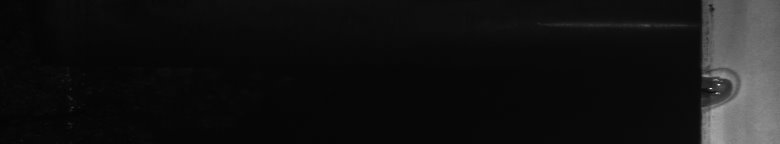hb: (712, 7, 737, 102)
